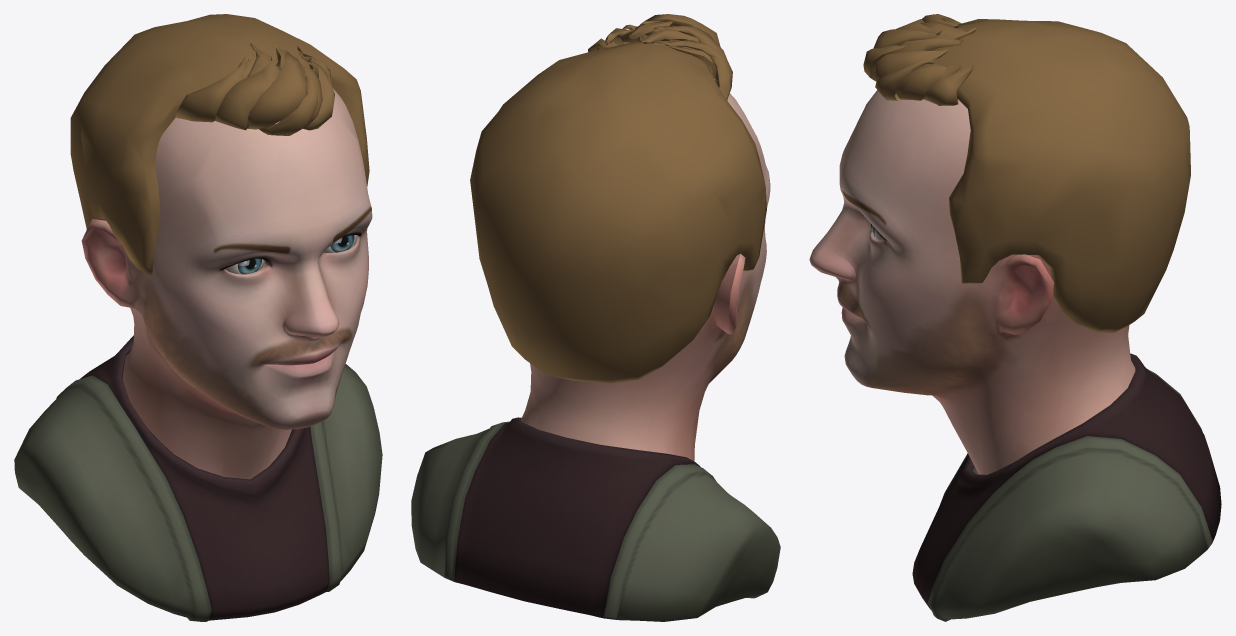
The model's file is avatar2.glb.
3 views of the same model, side by side, from view 1: azimuth 30°, elevation 25°; view 2: azimuth 150°, elevation 25°; view 3: azimuth 270°, elevation 25° (orthographic).
Visible parts, largest first — view 1: Wolf3D_Head, Wolf3D_Shirt, Wolf3D_Hair; view 2: Wolf3D_Hair, Wolf3D_Shirt, Wolf3D_Head; view 3: Wolf3D_Hair, Wolf3D_Head, Wolf3D_Shirt.
Boxes of the visible parts, x1,y1,x2,y2 form: Wolf3D_Head: [81, 88, 372, 479]; Wolf3D_Shirt: [14, 335, 382, 621]; Wolf3D_Hair: [70, 14, 369, 274]; Wolf3D_Hair: [470, 14, 766, 383]; Wolf3D_Shirt: [411, 417, 780, 621]; Wolf3D_Head: [520, 79, 770, 460]; Wolf3D_Hair: [863, 14, 1190, 332]; Wolf3D_Head: [809, 90, 1135, 474]; Wolf3D_Shirt: [912, 353, 1221, 621].
Size of the model in its own units: 0.2241 by 0.3704 by 0.2454.
5 materials, 4 textured.
